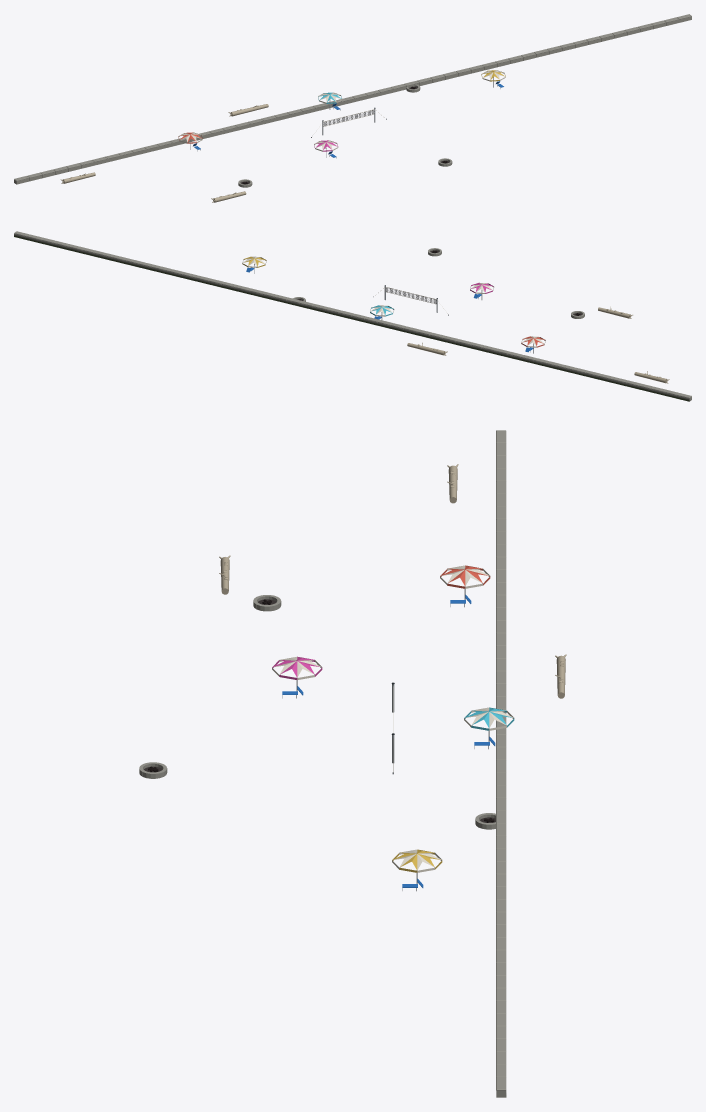
The model's file is gb-beach.glb.
The picture shows the model from 3 angles, top to bottom: view 1: azimuth 30°, elevation 25°; view 2: azimuth 150°, elevation 25°; view 3: azimuth 270°, elevation 25°; orthographic projection. The views are drawn at different scales.
Parts seen in each view (by area): view 1: gb-beach; view 2: gb-beach; view 3: gb-beach.
Part boxes in pixels (x1,y1,x2,y2): gb-beach: [14, 14, 691, 202]; gb-beach: [14, 231, 691, 401]; gb-beach: [139, 430, 566, 1097].
Bounding box in the file's own units: 130 × 2.97 × 35.63.
